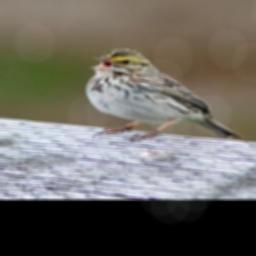Sparrow: (82, 44, 240, 143)
